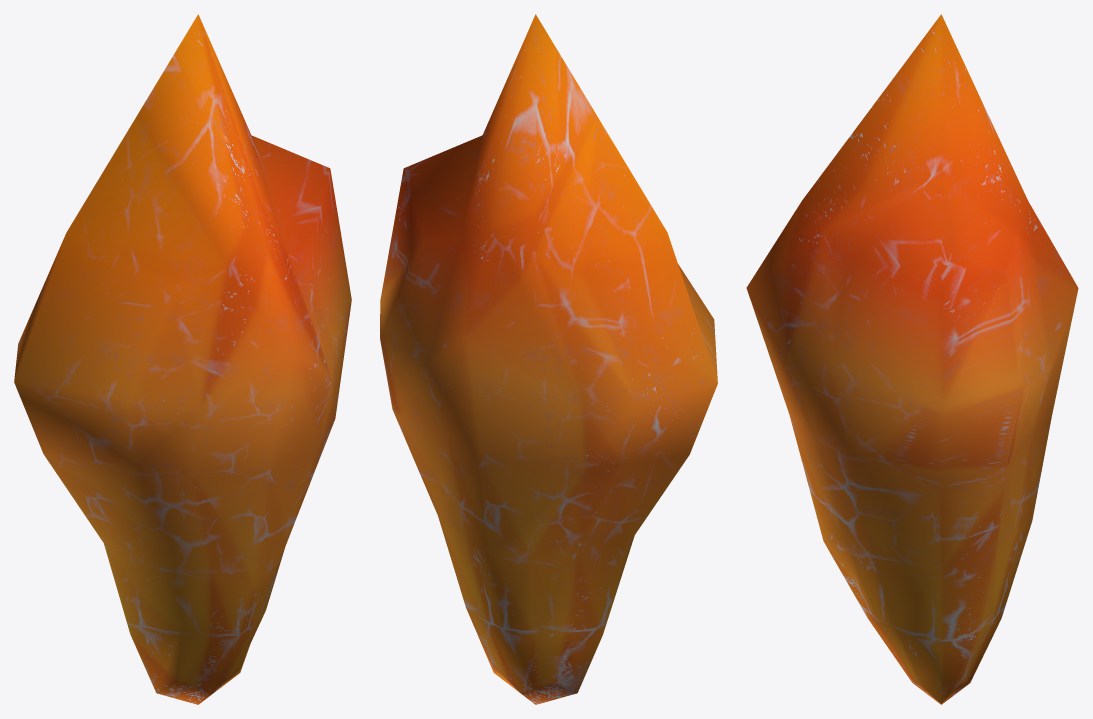
The model's file is ITM_UTILITY_FIRE GEM.fbx.
3 renders of one model, left to right at view 1: azimuth 30°, elevation 25°; view 2: azimuth 150°, elevation 25°; view 3: azimuth 270°, elevation 25°, orthographic.
Parts seen in each view (by area): view 1: itm_utility_fire_gem; view 2: itm_utility_fire_gem; view 3: itm_utility_fire_gem.
Part boxes in pixels (x1,y1,x2,y2): itm_utility_fire_gem: [14, 14, 351, 704]; itm_utility_fire_gem: [380, 14, 717, 704]; itm_utility_fire_gem: [746, 14, 1078, 704].
Bounding box in the file's own units: 19.5 × 38.12 × 16.6.
